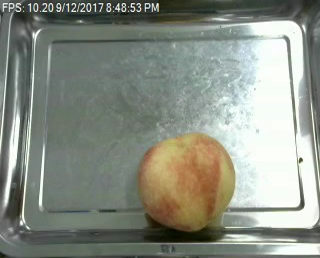Peach: (137, 132, 236, 232)
